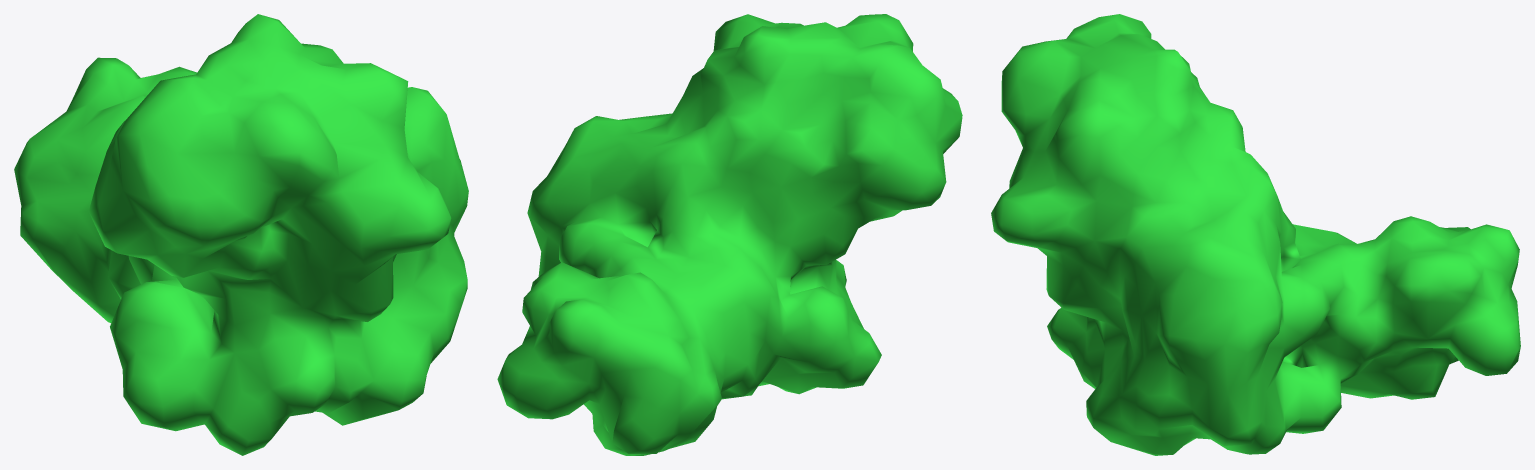
The model's file is HIV_Vif_cMSrep_High_1.01.dae.
3 renders of one model, left to right at view 1: azimuth 30°, elevation 25°; view 2: azimuth 150°, elevation 25°; view 3: azimuth 270°, elevation 25°, orthographic. The views are drawn at different scales.
Parts seen in each view (by area): view 1: Vif__MBupB2CPZ0_1_00.pdb; view 2: Vif__MBupB2CPZ0_1_00.pdb; view 3: Vif__MBupB2CPZ0_1_00.pdb.
Part boxes in pixels (x1,y1,x2,y2): Vif__MBupB2CPZ0_1_00.pdb: (14, 14, 468, 455); Vif__MBupB2CPZ0_1_00.pdb: (497, 14, 962, 455); Vif__MBupB2CPZ0_1_00.pdb: (991, 14, 1520, 455).
Bounding box in the file's own units: 52.42 × 49.27 × 66.11.
